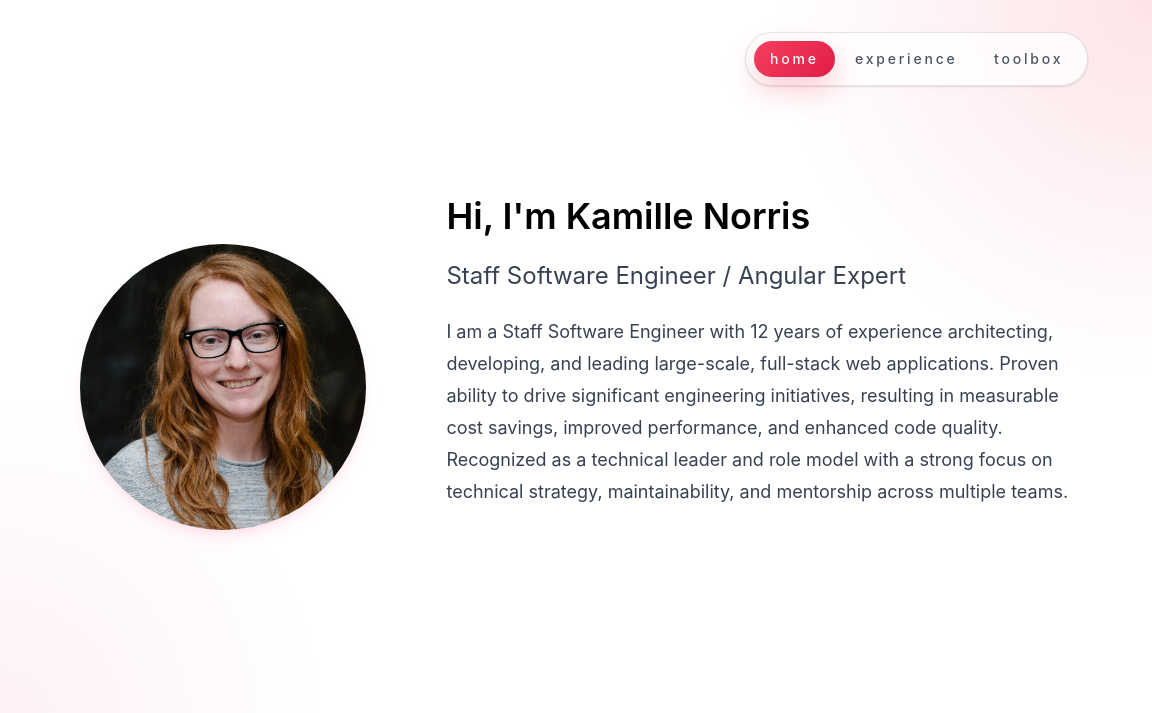
Test: App › renders the home section by default and navigates between sections
Expected: the heading "Hi, I'm Kamille Norris" is shown, 446,196 -> 810,238
Click the tab "toolbox".
click(1028, 59)  # box 978,41 -> 1079,77
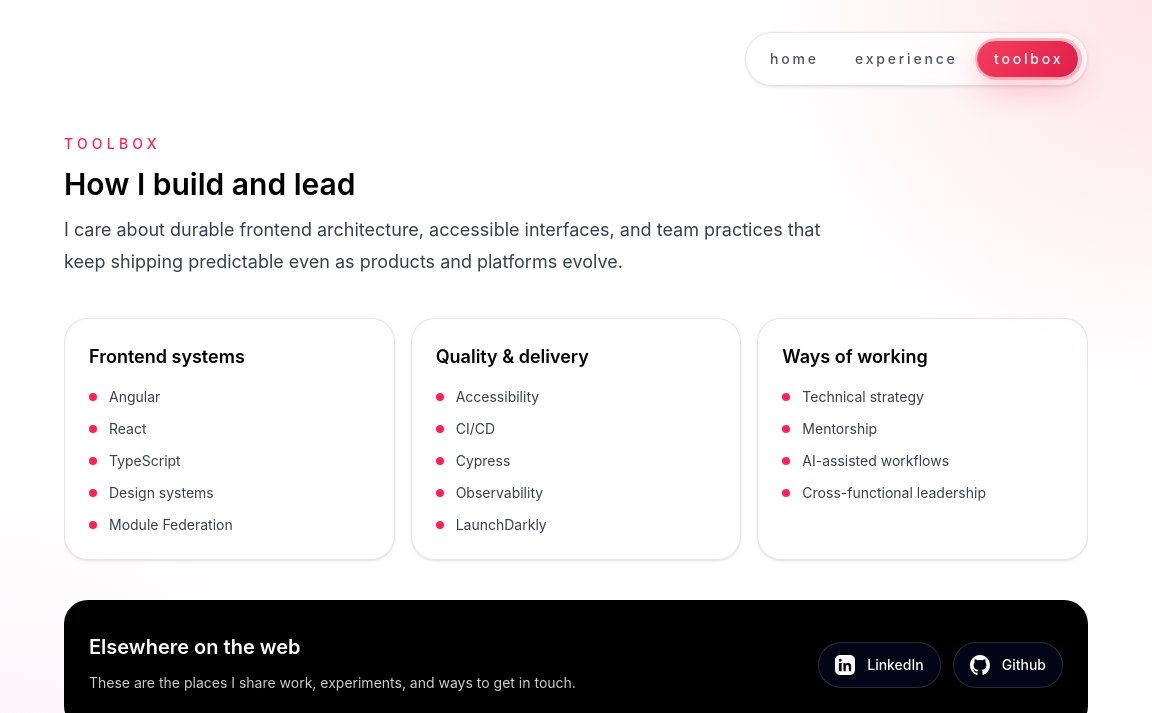
Expected: the heading "How I build and lead" is shown, 64,166 -> 356,202
Click the tab "experience".
click(906, 59)  # box 839,41 -> 974,77
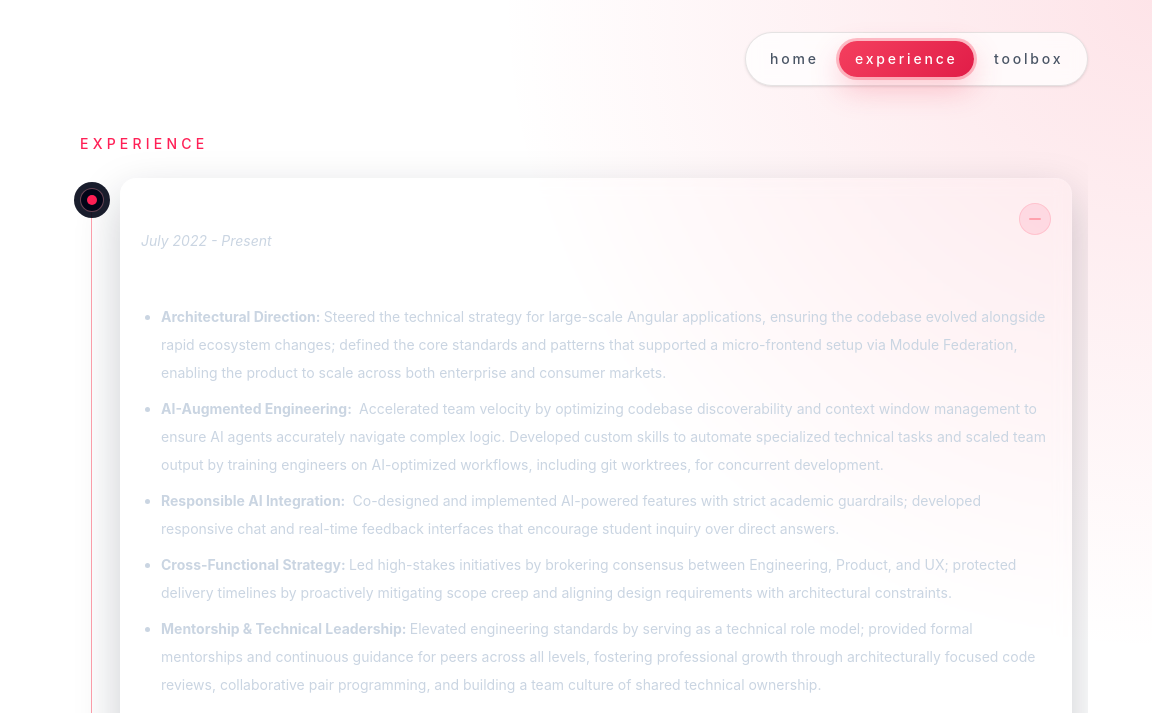
Expected: the heading "Experience" is shown, 80,135 -> 208,152
Expected: the text "Architectural Direction:" is shown, 161,308 -> 324,325
